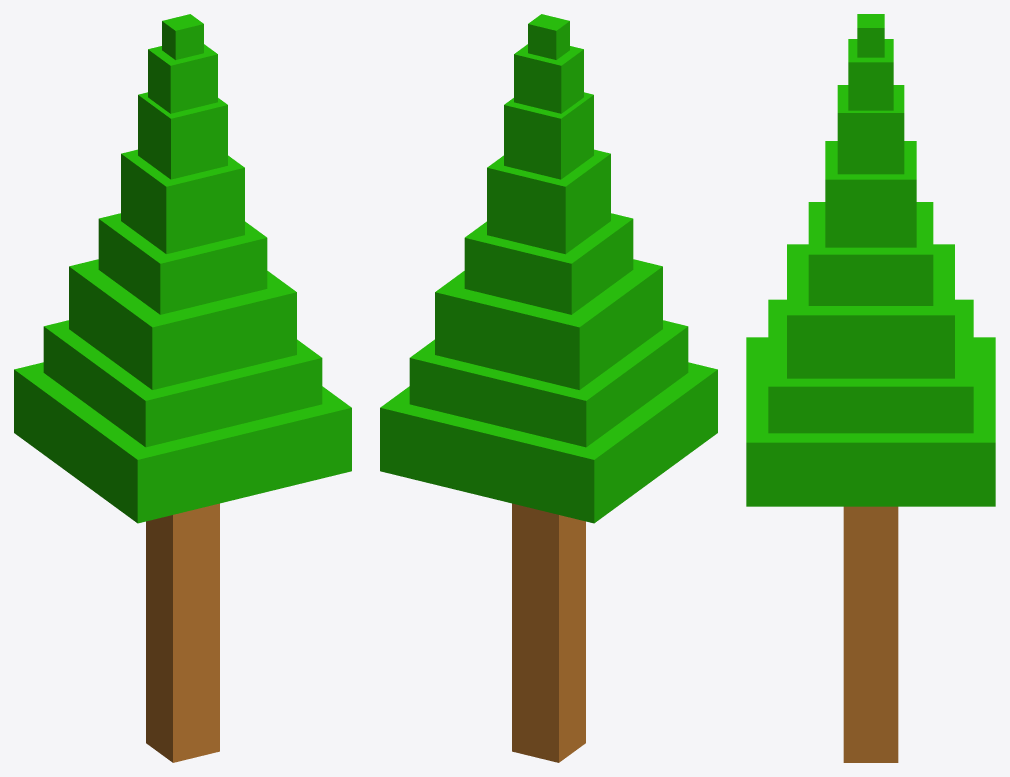
Rendered from Tree2.fbx.
3 renders of one model, left to right at view 1: azimuth 30°, elevation 25°; view 2: azimuth 150°, elevation 25°; view 3: azimuth 270°, elevation 25°, orthographic.
Parts seen in each view (by area): view 1: Cube.003, Cube.001, Cube.000, Cube.002, Cube.004, Cube.005, Cube.007, Cube.006, Cube.008; view 2: Cube.003, Cube.001, Cube.000, Cube.002, Cube.004, Cube.005, Cube.007, Cube.006, Cube.008; view 3: Cube.003, Cube.000, Cube.002, Cube.001, Cube.004, Cube.005, Cube.007, Cube.006, Cube.008.
Part boxes in pixels (box(x1,y1,x2,y2)): Cube.003: box(14, 362, 351, 523); Cube.001: box(146, 503, 219, 762); Cube.000: box(69, 259, 296, 389); Cube.002: box(43, 320, 322, 447); Cube.004: box(98, 213, 267, 314); Cube.005: box(121, 149, 244, 254); Cube.007: box(138, 92, 227, 179); Cube.006: box(148, 44, 217, 113); Cube.008: box(162, 14, 203, 59); Cube.003: box(380, 362, 717, 523); Cube.001: box(512, 503, 585, 762); Cube.000: box(435, 259, 662, 389); Cube.002: box(409, 320, 688, 447); Cube.004: box(464, 213, 633, 314); Cube.005: box(487, 149, 610, 254); Cube.007: box(504, 92, 593, 179); Cube.006: box(514, 44, 583, 113); Cube.008: box(528, 14, 569, 59); Cube.003: box(746, 337, 995, 506); Cube.000: box(787, 244, 954, 378); Cube.002: box(768, 299, 973, 433); Cube.001: box(843, 506, 898, 762); Cube.004: box(808, 202, 933, 305); Cube.005: box(825, 141, 916, 247); Cube.007: box(837, 85, 904, 174); Cube.006: box(848, 39, 893, 110); Cube.008: box(857, 14, 884, 57).
Size of the model in its own units: 480 by 1553 by 480.
